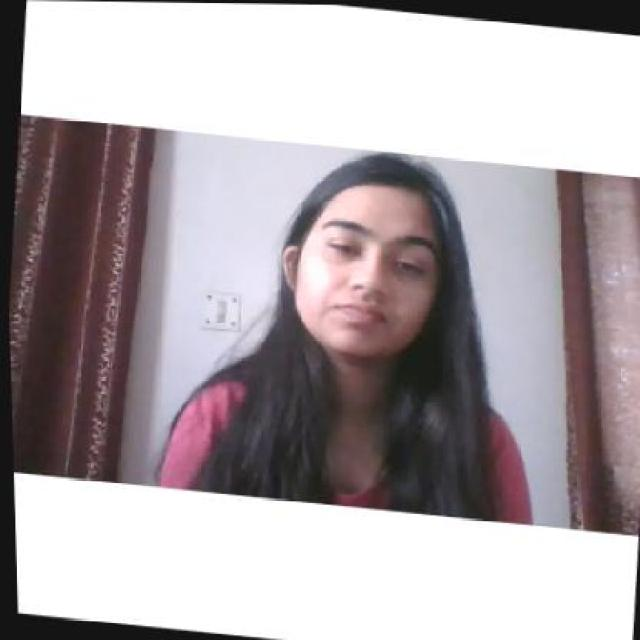attentif: (270, 141, 452, 362)
